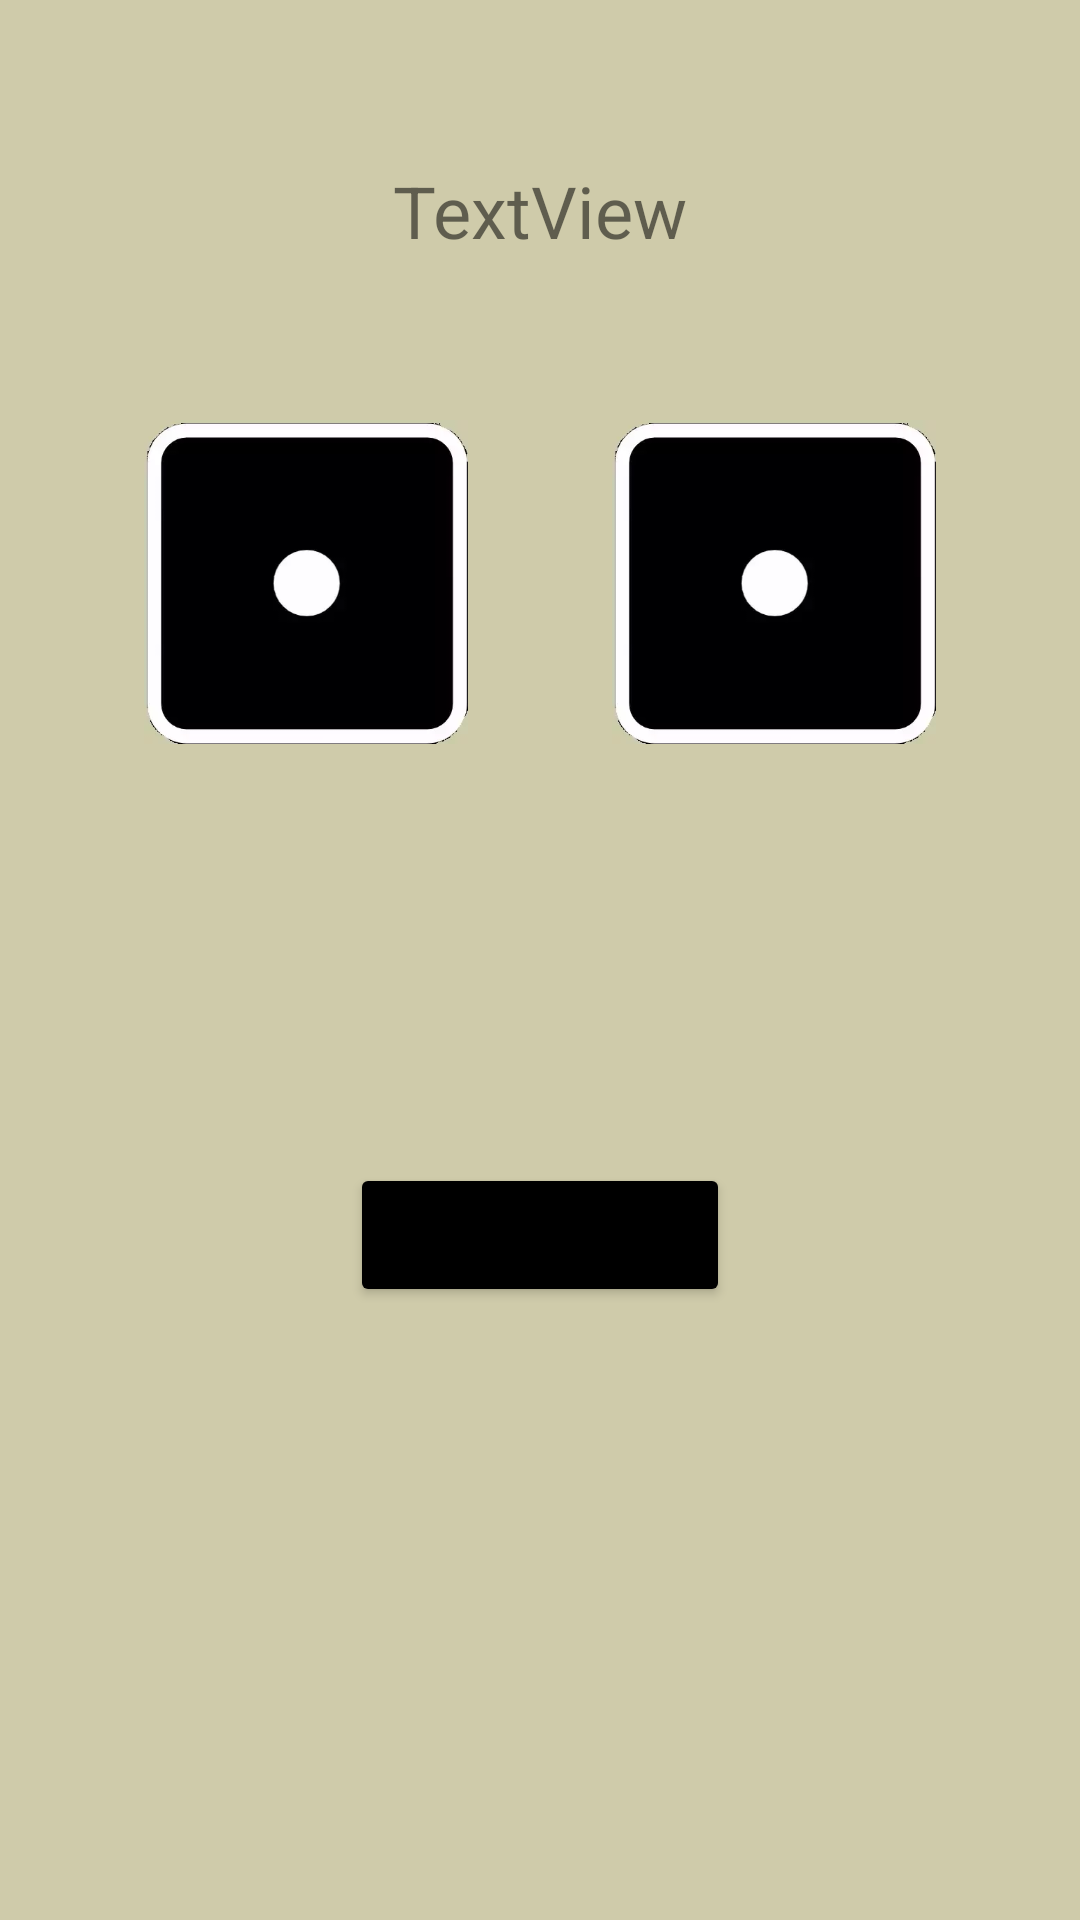

Screen size 1080 x 1920. Icon name, then its center in pixels as point (x, y):
dice: point (307, 583), point (775, 583)
